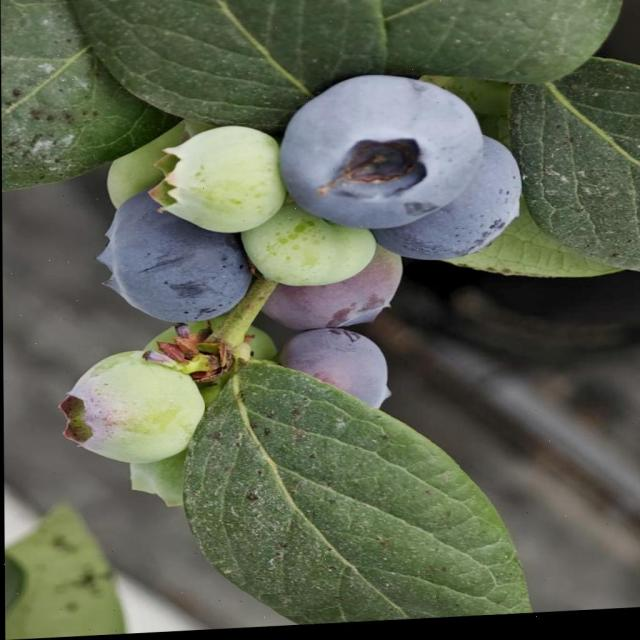RipeBlueBerry: (276, 72, 485, 234)
UnripeBlueBerry: (55, 346, 204, 466), (160, 124, 284, 238)
